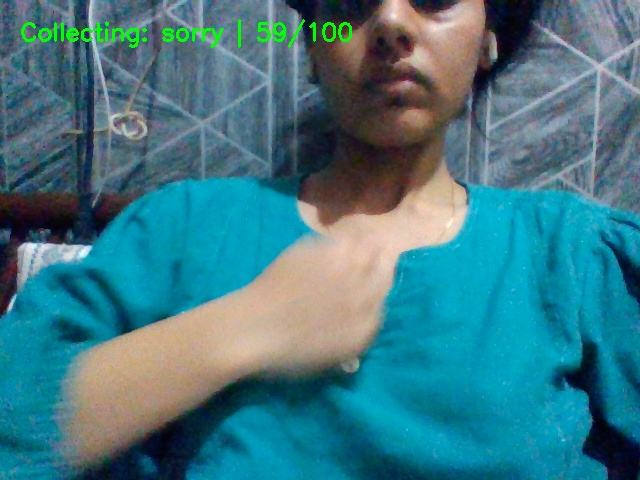sorry: (241, 211, 435, 407)
